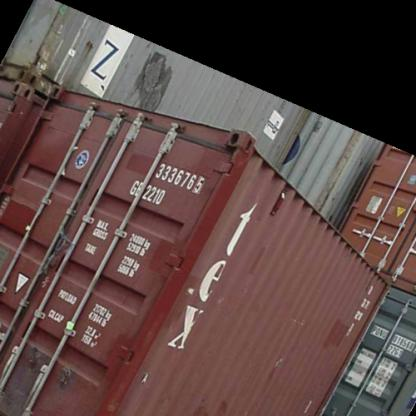Damage: (6, 338, 46, 412), (269, 350, 295, 378), (289, 308, 314, 333), (135, 364, 153, 391), (298, 390, 318, 412), (185, 281, 202, 301)
